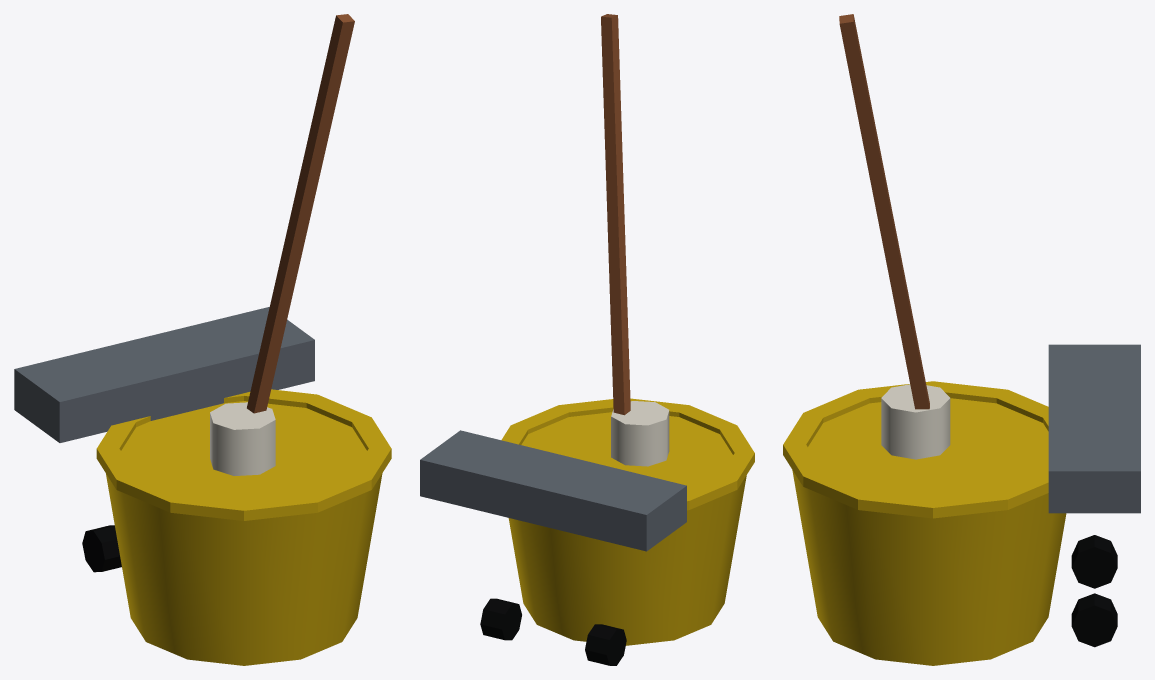
The model's file is mop_bucket.glb.
3 views of the same model, side by side, from view 1: azimuth 30°, elevation 25°; view 2: azimuth 150°, elevation 25°; view 3: azimuth 270°, elevation 25° (orthographic). The views are drawn at different scales.
Parts seen in each view (by area): view 1: mop_bucket; view 2: mop_bucket; view 3: mop_bucket.
Boxes of the visible parts, x1,y1,x2,y2 form: mop_bucket: (14,14,391,665); mop_bucket: (420,14,754,665); mop_bucket: (783,14,1140,665).
Bounding box in the file's own units: 0.52 × 1.2 × 0.62.
